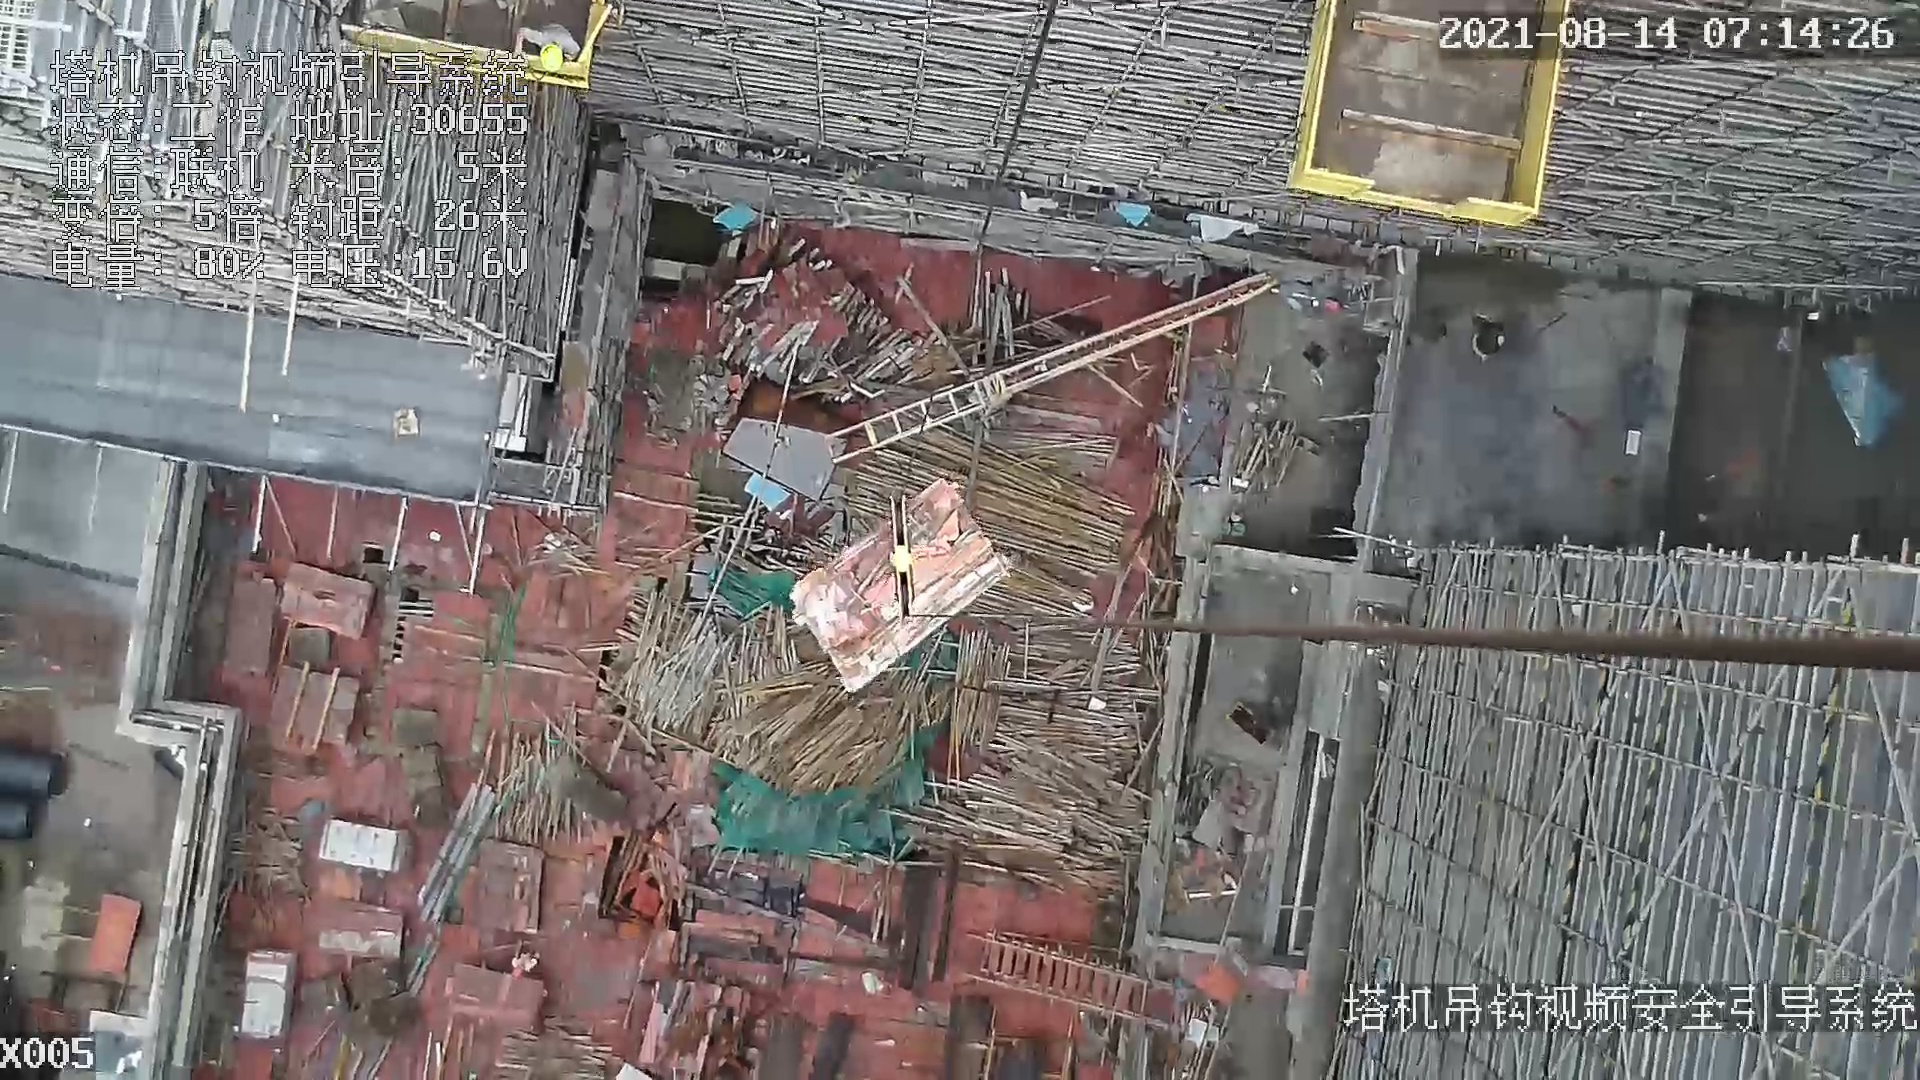helmet: (537, 39, 564, 72)
hook: (883, 491, 929, 619)
person: (515, 23, 576, 67)
